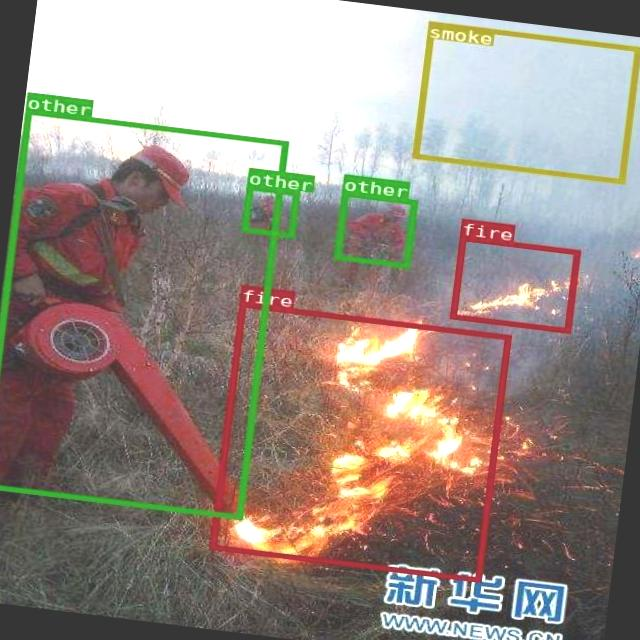fire: (208, 300, 510, 581), (448, 234, 580, 332)
smoke: (411, 20, 639, 183)
